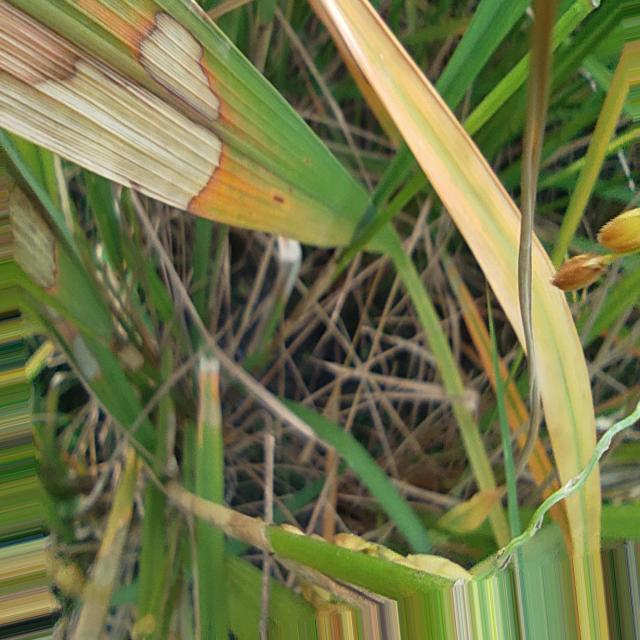Leaf_Blast: (312, 0, 525, 343), (532, 238, 595, 482), (565, 468, 609, 638)
Rice False Smut: (0, 2, 221, 208), (139, 12, 220, 120)
